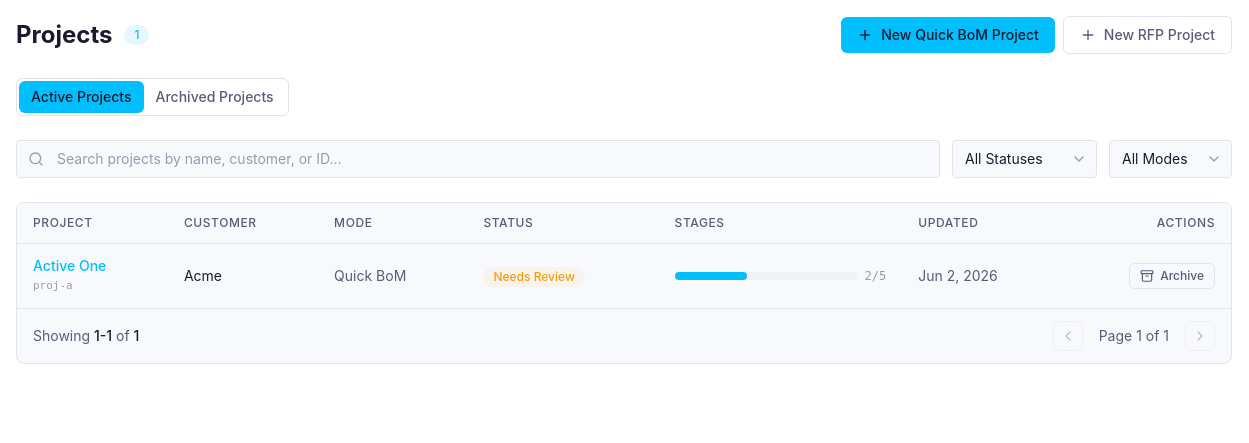
ProjectsPage - archive views and actions (QBM-LOG-006) › shows a controlled error when an archive action fails
Expected: the link "Active One" is shown, top-left (33, 257), bottom-right (106, 274)
Click the button with test id "archive-proj-a" at coordinates (1172, 276), box top-left (1129, 263), bottom-right (1215, 289)
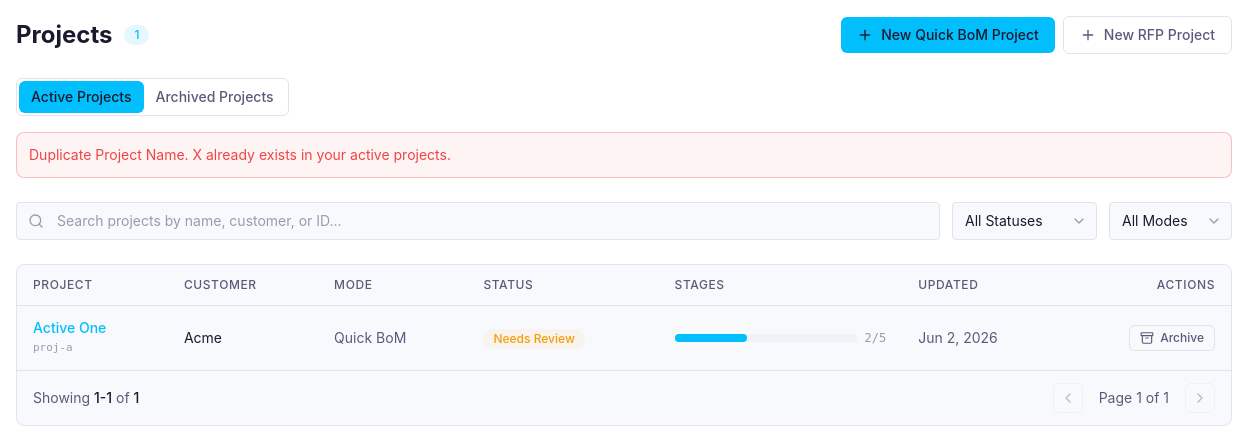
Expected: the text with test id "action-error" shows "Duplicate Project Name.", top-left (29, 146), bottom-right (451, 163)
